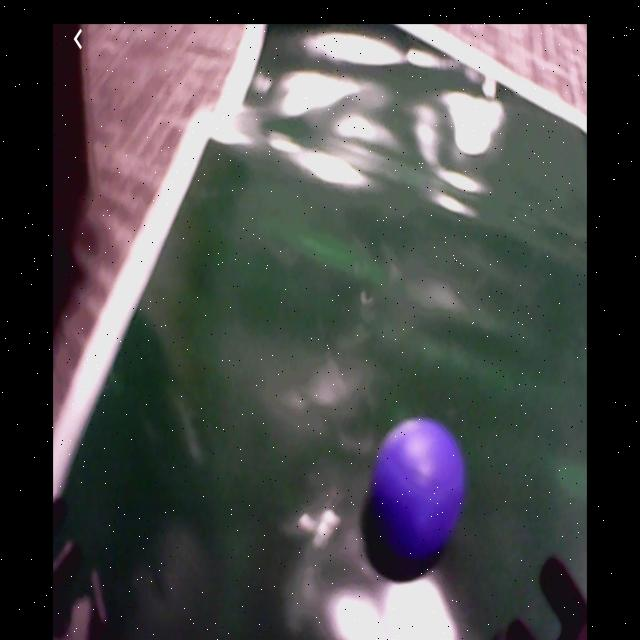ball: (373, 420, 464, 564)
